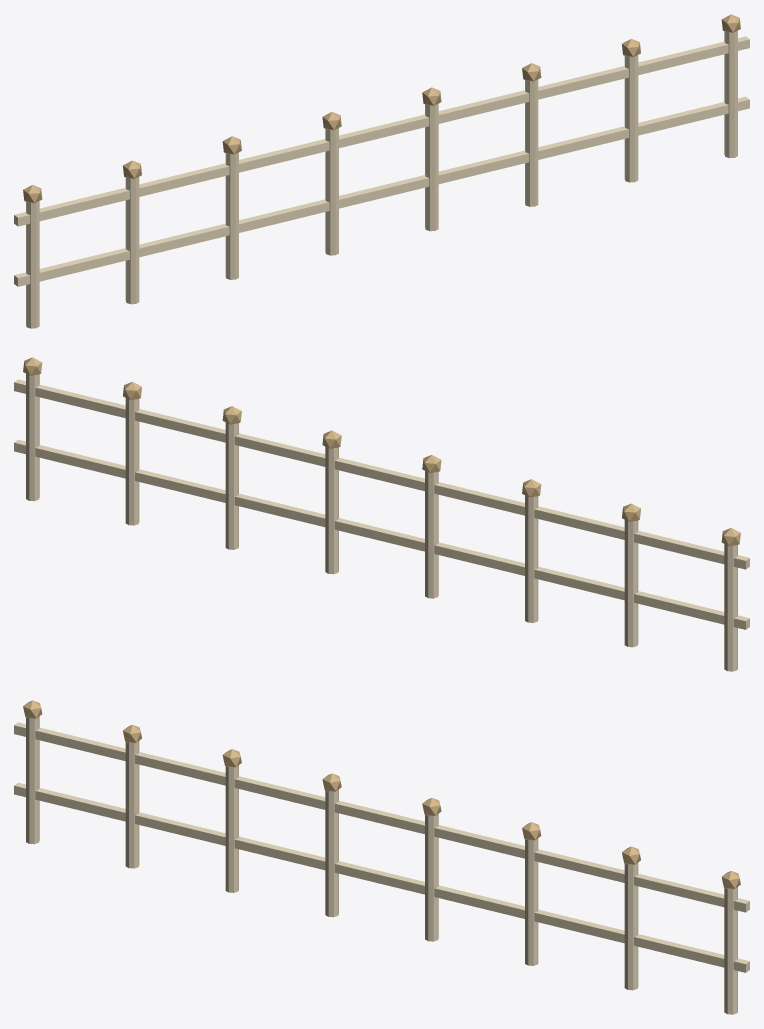
The model's file is tpe5_park_fence_7m.glb.
3 renders of one model, top to bottom at view 1: azimuth 30°, elevation 25°; view 2: azimuth 150°, elevation 25°; view 3: azimuth 330°, elevation 25°, orthographic.
Visible parts, largest first — view 1: tpe5_park_fence_7m__tpe5-street-ivory, tpe5_park_fence_7m__tpe5-street-brass; view 2: tpe5_park_fence_7m__tpe5-street-ivory, tpe5_park_fence_7m__tpe5-street-brass; view 3: tpe5_park_fence_7m__tpe5-street-ivory, tpe5_park_fence_7m__tpe5-street-brass.
Part boxes in pixels (x1,y1,x2,y2): tpe5_park_fence_7m__tpe5-street-ivory: (14,30,749,328); tpe5_park_fence_7m__tpe5-street-brass: (23,14,740,203); tpe5_park_fence_7m__tpe5-street-ivory: (14,373,749,671); tpe5_park_fence_7m__tpe5-street-brass: (23,357,740,546); tpe5_park_fence_7m__tpe5-street-ivory: (14,716,749,1014); tpe5_park_fence_7m__tpe5-street-brass: (23,700,740,889).
Size of the model in its own units: 6.6 by 1.22 by 0.1446.
